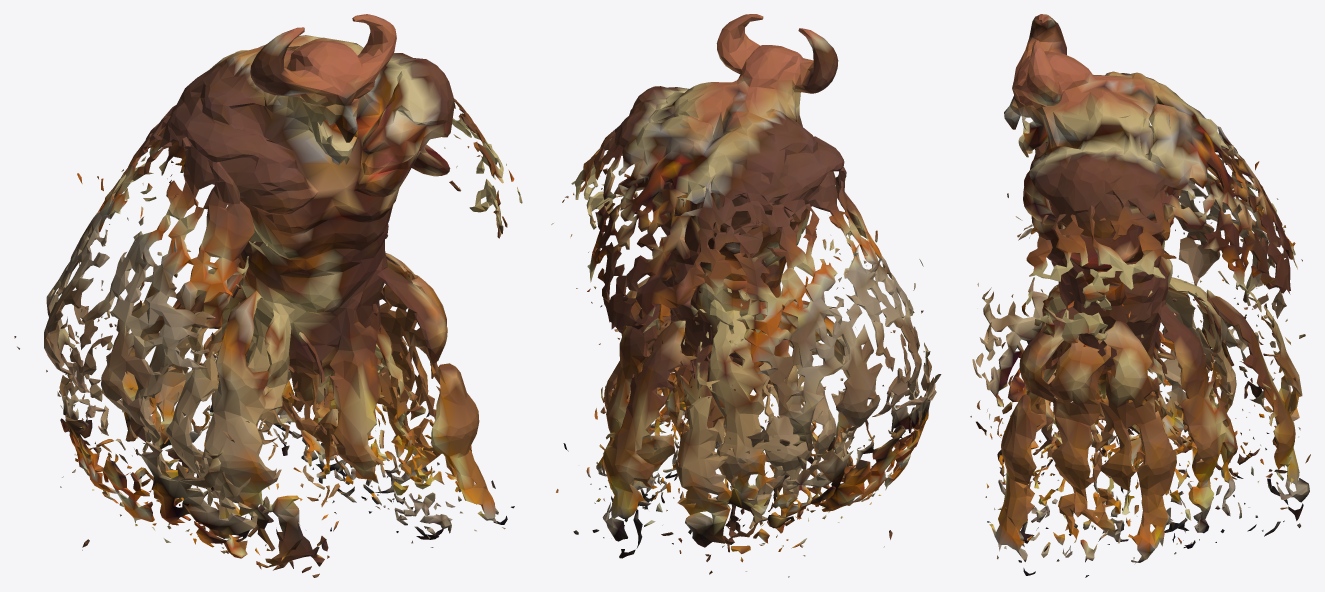
Rendered from darkDragon.glb.
3 views of the same model, side by side, from view 1: azimuth 30°, elevation 25°; view 2: azimuth 150°, elevation 25°; view 3: azimuth 270°, elevation 25° (orthographic). The views are drawn at different scales.
Visible parts, largest first — view 1: world; view 2: world; view 3: world.
Boxes of the visible parts, x1,y1,x2,y2 form: world: (14, 14, 522, 577); world: (551, 14, 941, 577); world: (970, 14, 1310, 577).
Bounding box in the file's own units: 0.8018 × 1 × 0.6461.
